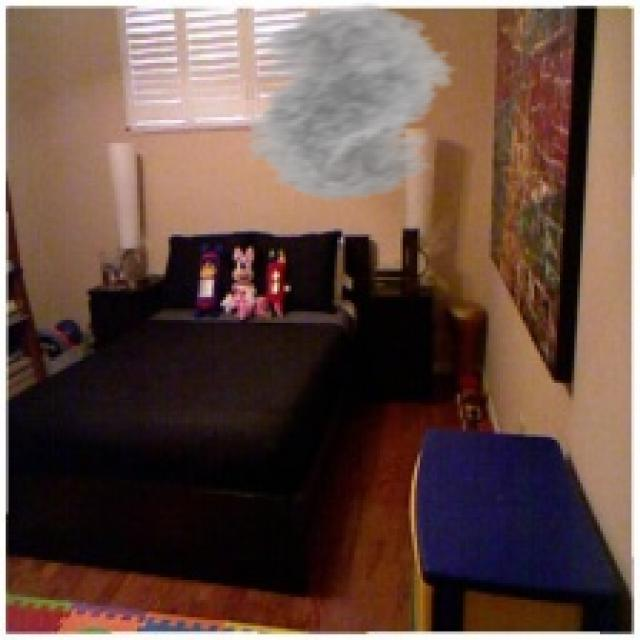smoke: (217, 3, 474, 203)
